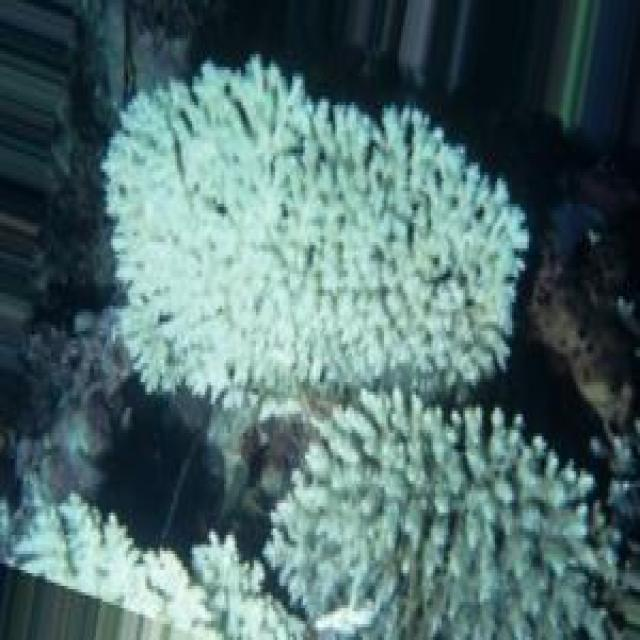bleached coral: (124, 64, 386, 159), (192, 497, 294, 640), (128, 239, 205, 388), (284, 474, 407, 567), (311, 293, 439, 379), (335, 134, 435, 236), (465, 481, 576, 570), (228, 296, 299, 401), (256, 194, 331, 280), (87, 516, 143, 592), (175, 153, 235, 220)
